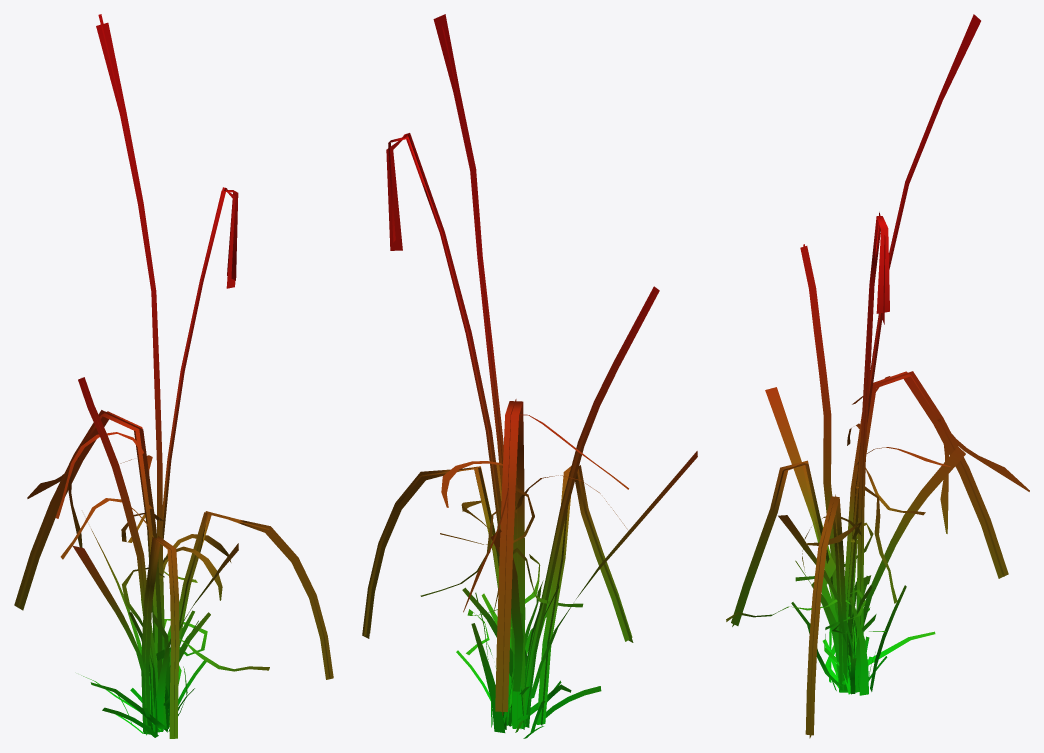
Rendered from Var6_LOD1.fbx.
3 renders of one model, left to right at view 1: azimuth 30°, elevation 25°; view 2: azimuth 150°, elevation 25°; view 3: azimuth 270°, elevation 25°, orthographic. The views are drawn at different scales.
Parts seen in each view (by area): view 1: _dac1_Var6_LOD1; view 2: _dac1_Var6_LOD1; view 3: _dac1_Var6_LOD1.
Part boxes in pixels (x1=…): _dac1_Var6_LOD1: x1=14, y1=14, x2=333, y2=738; _dac1_Var6_LOD1: x1=362, y1=14, x2=697, y2=738; _dac1_Var6_LOD1: x1=726, y1=14, x2=1029, y2=738.
Size of the model in its own units: 25.4 by 58.85 by 23.79.
